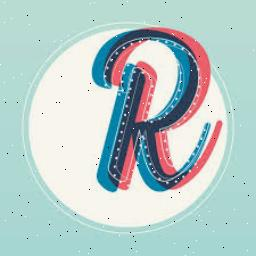r: (89, 17, 221, 197)
